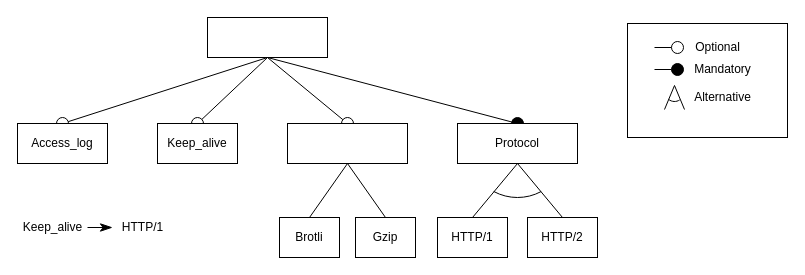
This 805x275 diagram has some shape labels left out. The centre of each missing label's shape, as x and y in pixels:
"Compression" belongs at point (347, 143).
"Web Server" belongs at point (267, 37).
